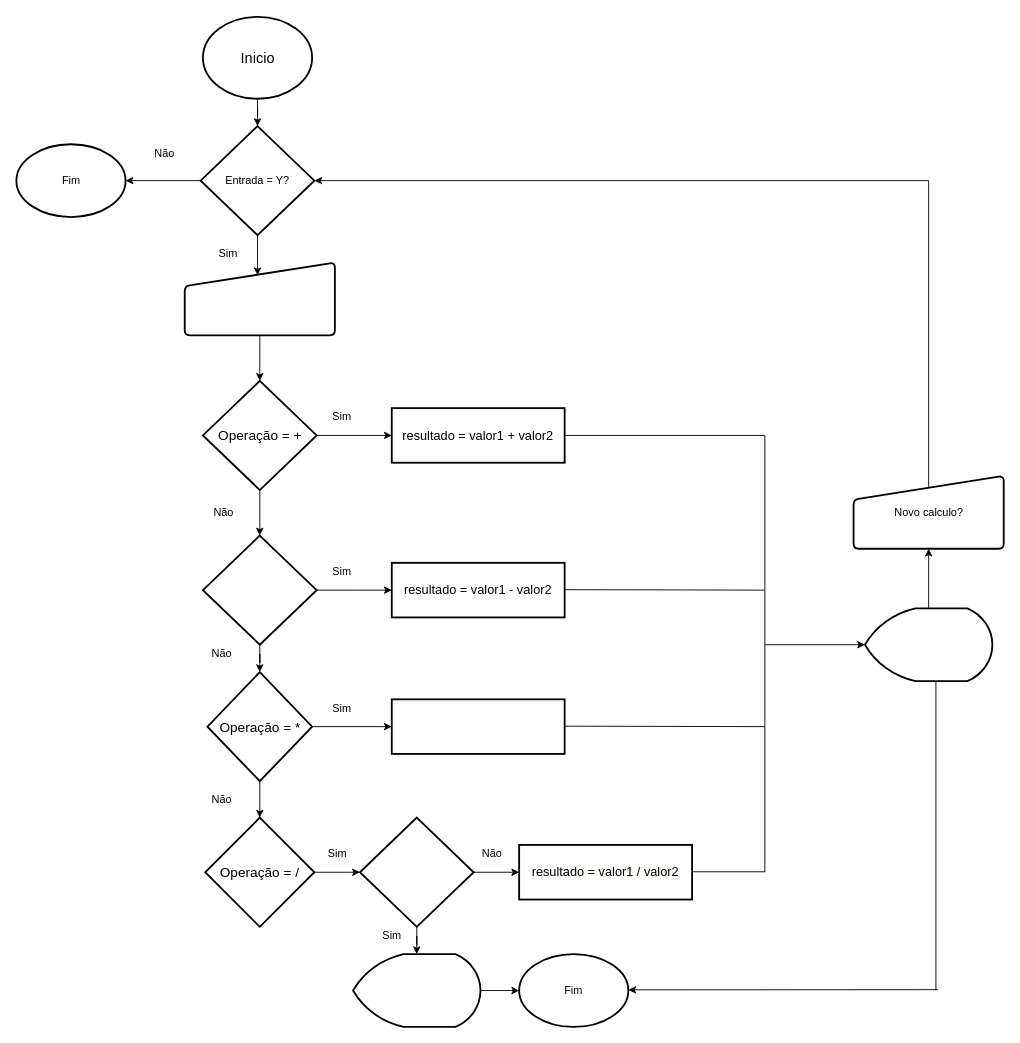
Image size: 1020x1043. Some labels were removed from this diagram. Each missing label, with the box of its shape:
Erro: divisão por zero.: (352, 953, 481, 1027)
Operação = -: (202, 534, 317, 645)
Resultado: (864, 607, 993, 682)
resultado = valor1 * valor2: (390, 698, 565, 754)
Valor = 0: (359, 816, 474, 927)
ValorA, Operação, ValorB: (183, 261, 335, 336)
